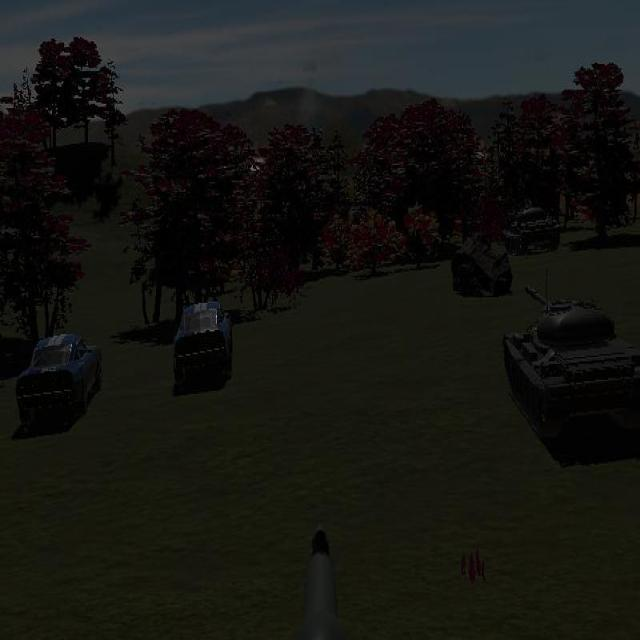Tank: (502, 285, 640, 444)
car: (16, 332, 102, 430), (172, 299, 233, 387)
